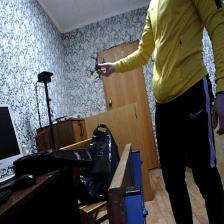drone: (84, 47, 106, 85)
